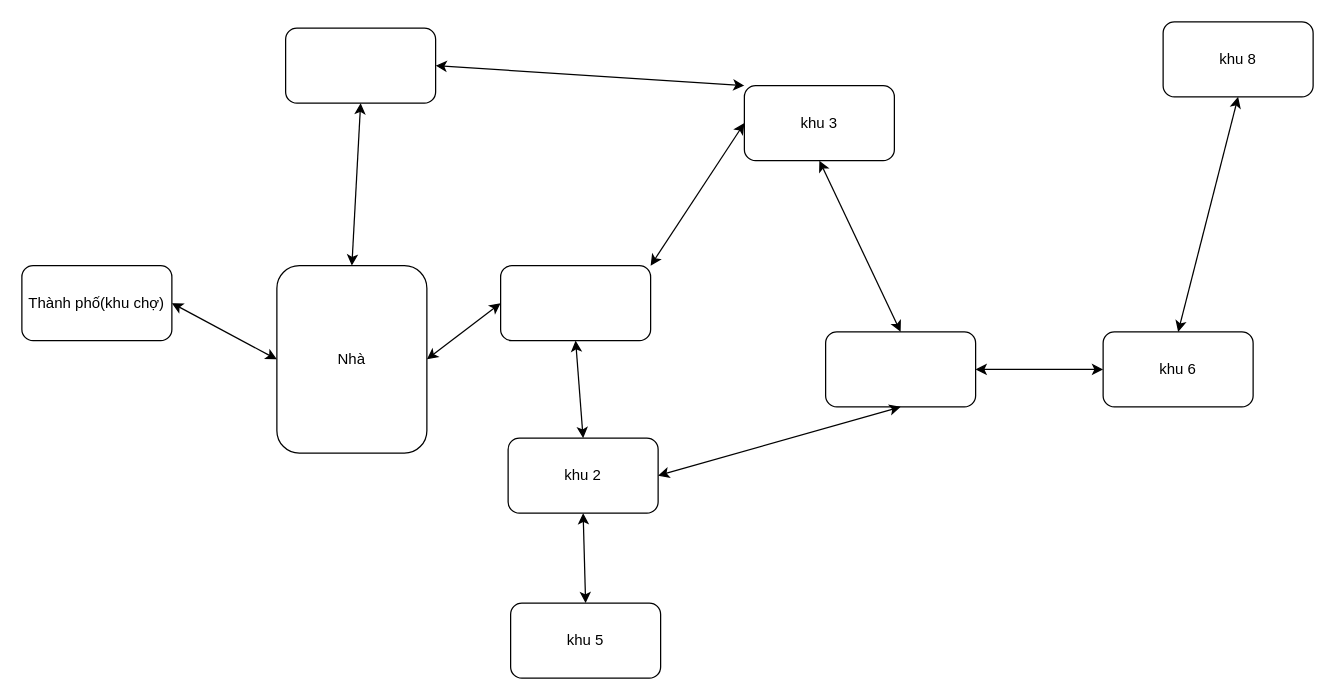
Some shapes in this 1335 by 700 pixel diagram are drawn without their labels. The centre of each missing label's shape, as x and y in pixels:
khu 1: the point at 575,302
khu 4: the point at 900,369
khu 7: the point at 360,65
